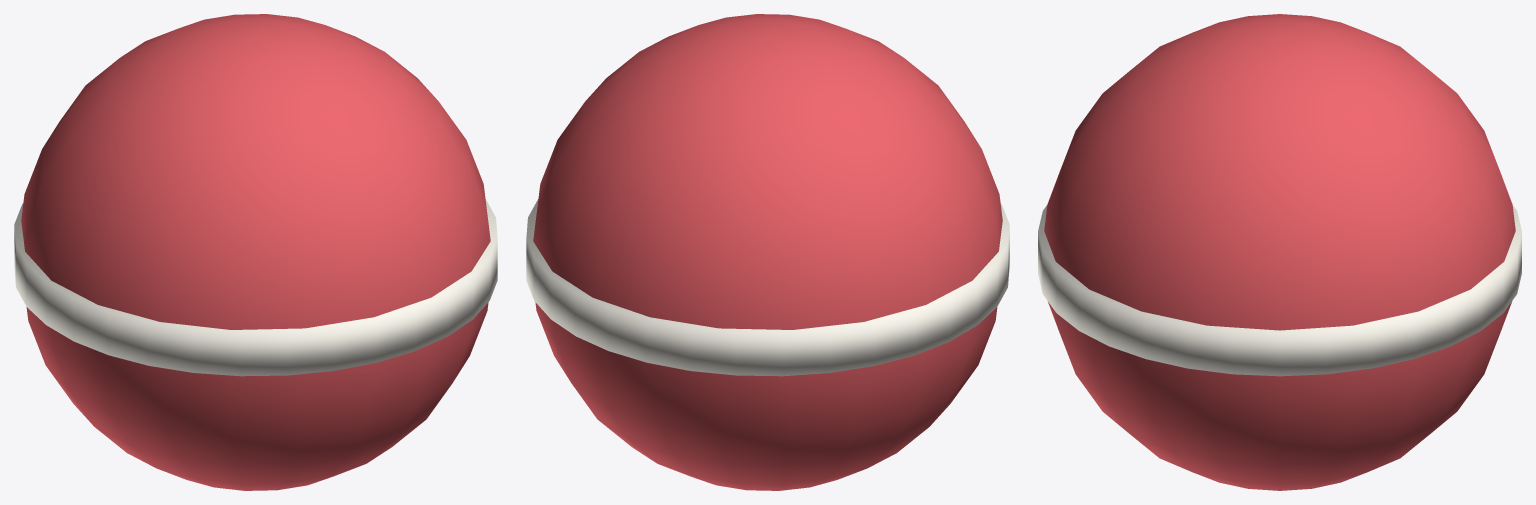
The model's file is ball.glb.
3 views of the same model, side by side, from view 1: azimuth 30°, elevation 25°; view 2: azimuth 150°, elevation 25°; view 3: azimuth 270°, elevation 25° (orthographic).
Visible parts, largest first — view 1: ball; view 2: ball; view 3: ball.
Boxes of the visible parts, x1=… form: ball: x1=14, y1=14, x2=497, y2=490; ball: x1=526, y1=14, x2=1009, y2=490; ball: x1=1038, y1=14, x2=1521, y2=490.
Bounding box in the file's own units: 1 × 0.9862 × 1.
